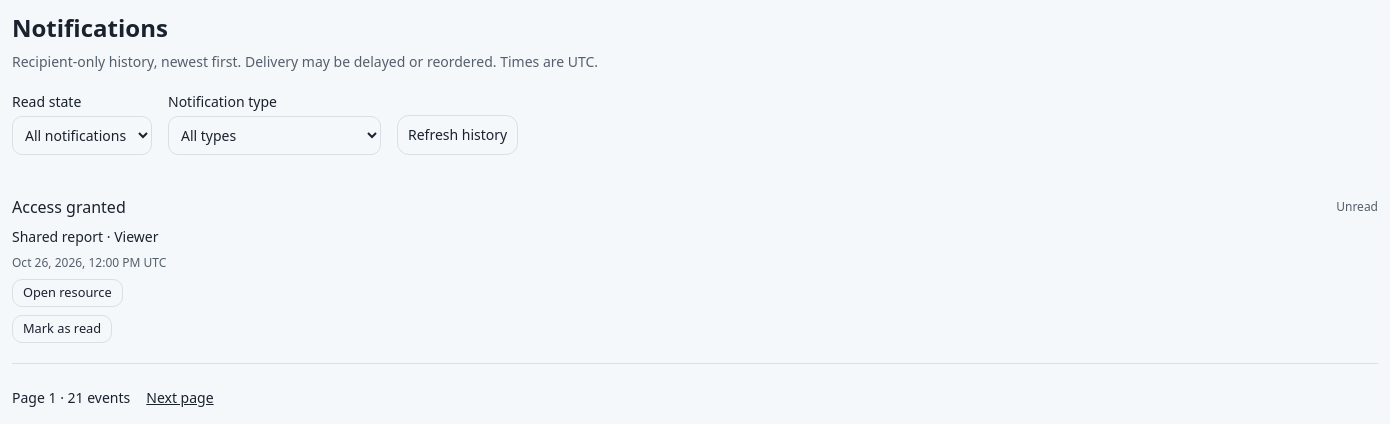
Scenario: removes stale notification metadata after access is revoked
Click the button "Open resource".
click(67, 293)  # box x1=12 y1=279 x2=123 y2=307
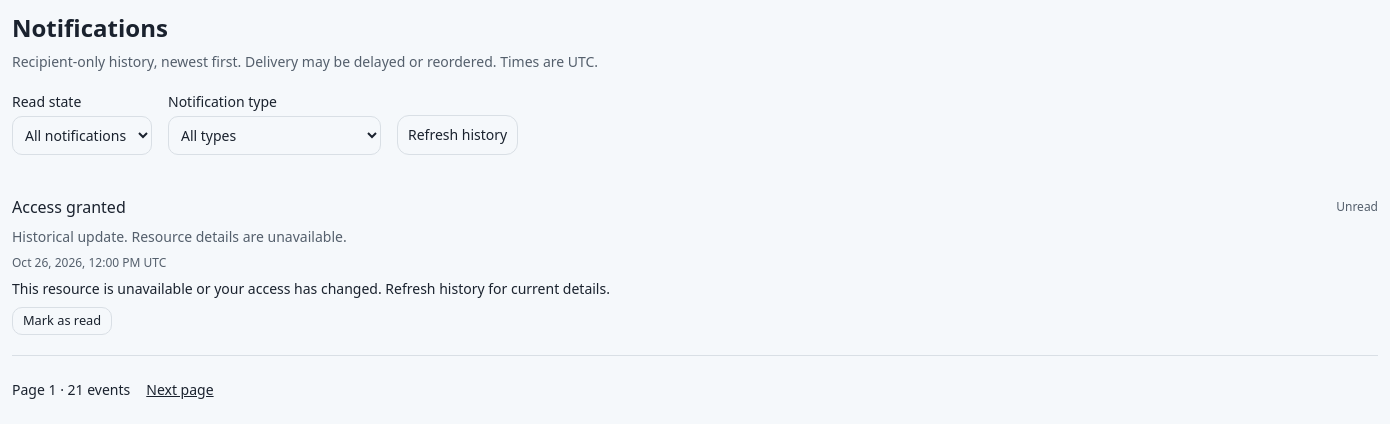
Result: the message shows "unavailable or your access has changed" at x1=12 y1=279 x2=610 y2=298
Result: the text "Shared report · Viewer" is gone
